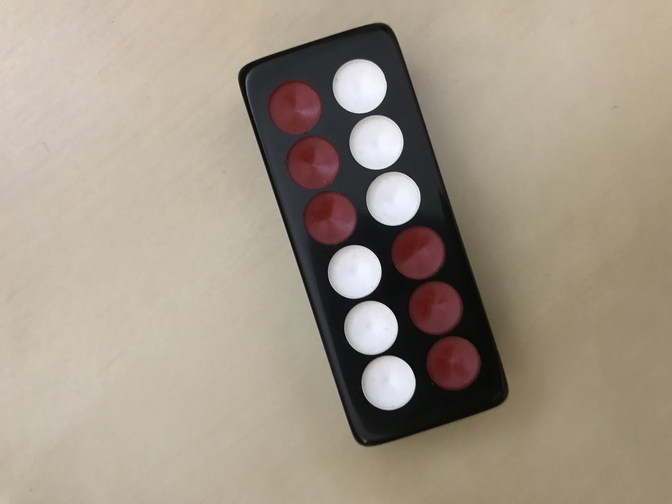heaven: (238, 23, 510, 446)
